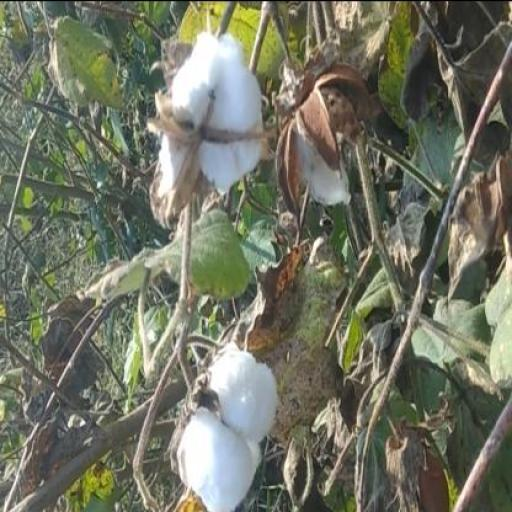cotton_ready: (145, 22, 278, 260), (167, 338, 292, 500)
